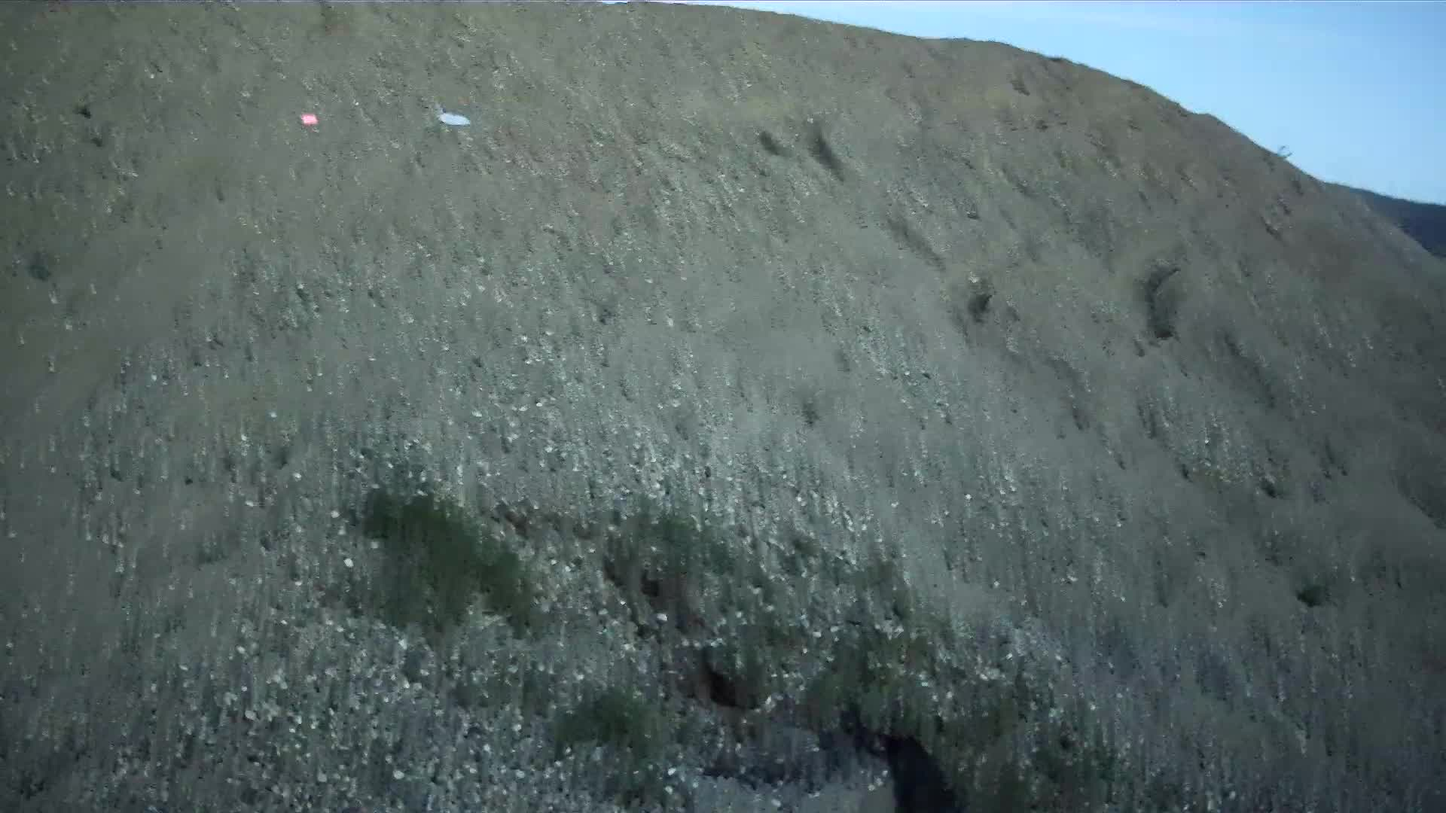Target: (436, 111, 474, 127)
